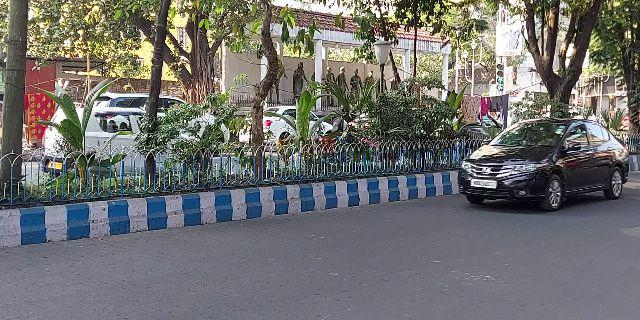Car: (449, 114, 632, 209)
